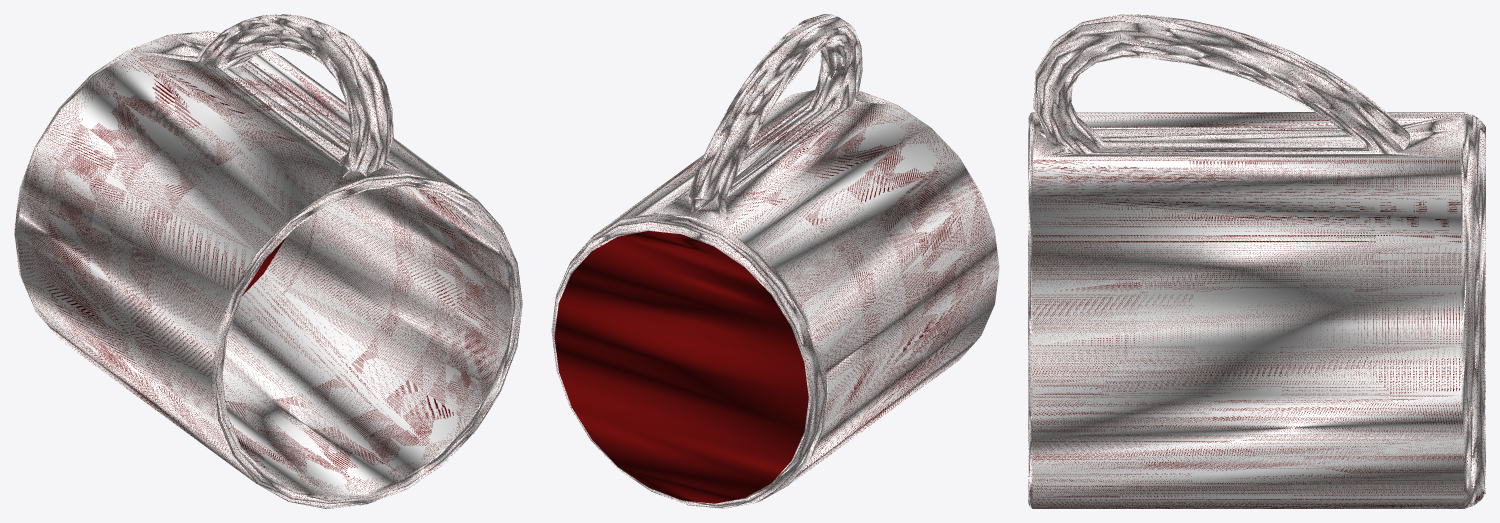
The model's file is model_align.obj.
3 renders of one model, left to right at view 1: azimuth 30°, elevation 25°; view 2: azimuth 150°, elevation 25°; view 3: azimuth 270°, elevation 25°, orthographic. The views are drawn at different scales.
Bounding box in the file's own units: 0.0796 × 0.1058 × 0.0915.
